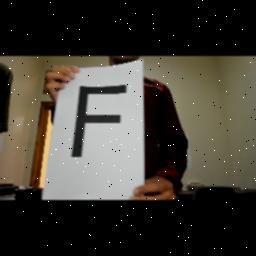f: (70, 80, 136, 166)
